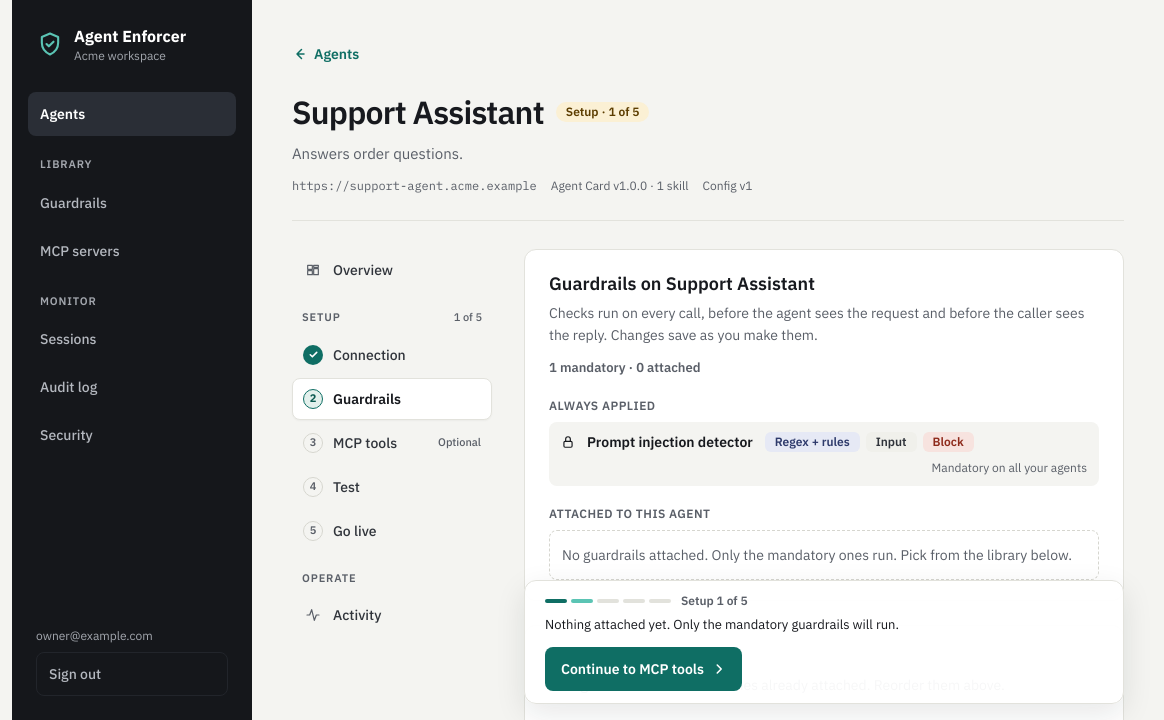
Test: Agent guardrails step (bindings) › marks the step done and moves on from the next-step bar
Expected: the heading "Attached to this agent" is shown, [549, 506, 711, 520]
Expected: the text "Nothing attached yet. Only the mandatory guardrails will run." is shown, [545, 615, 899, 635]
Click the button "Continue to MCP tools": [643, 669] box [545, 647, 742, 691]
(page scrolled)
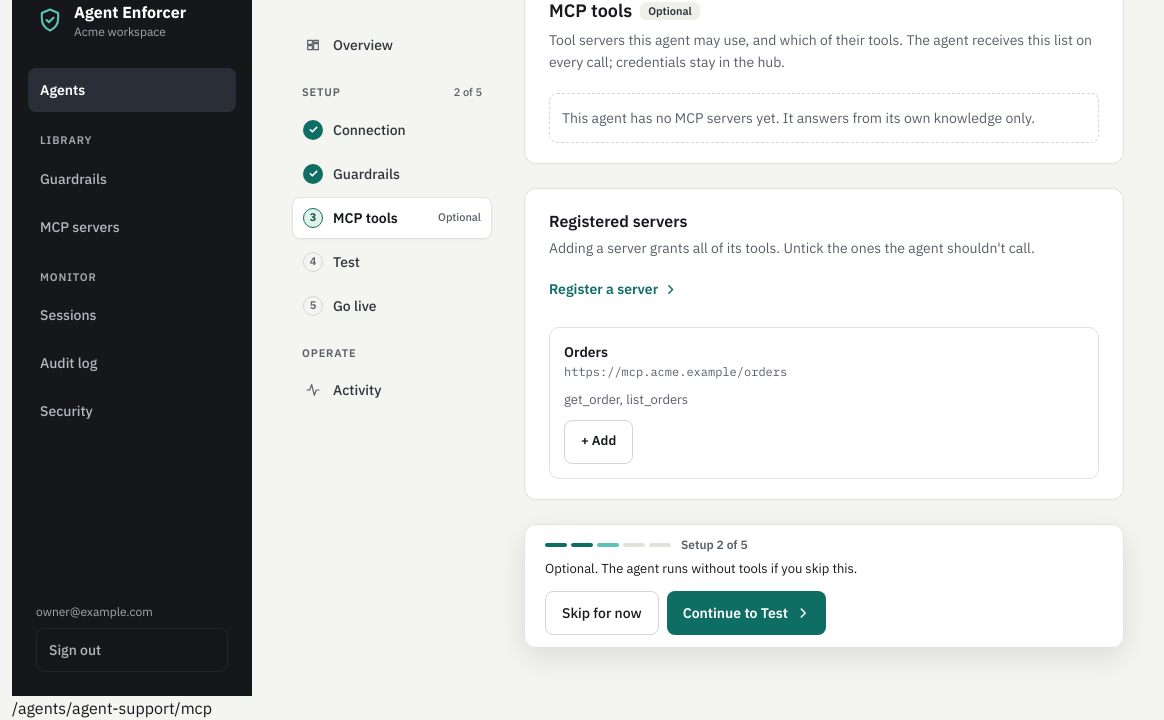
Now the text with test id "location" reads "/agents/agent-support/mcp", box [12, 698, 212, 718]
